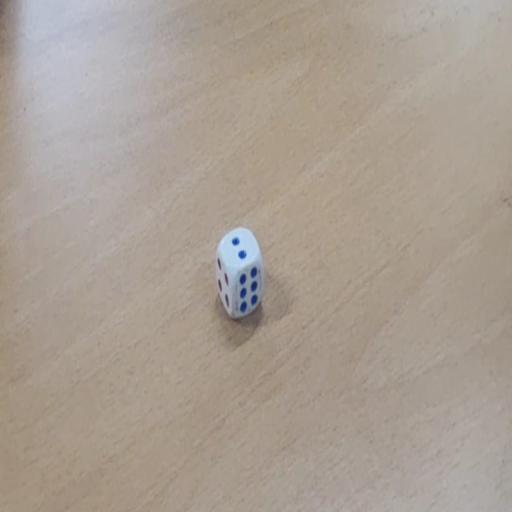dice_2: (215, 226, 264, 320)
